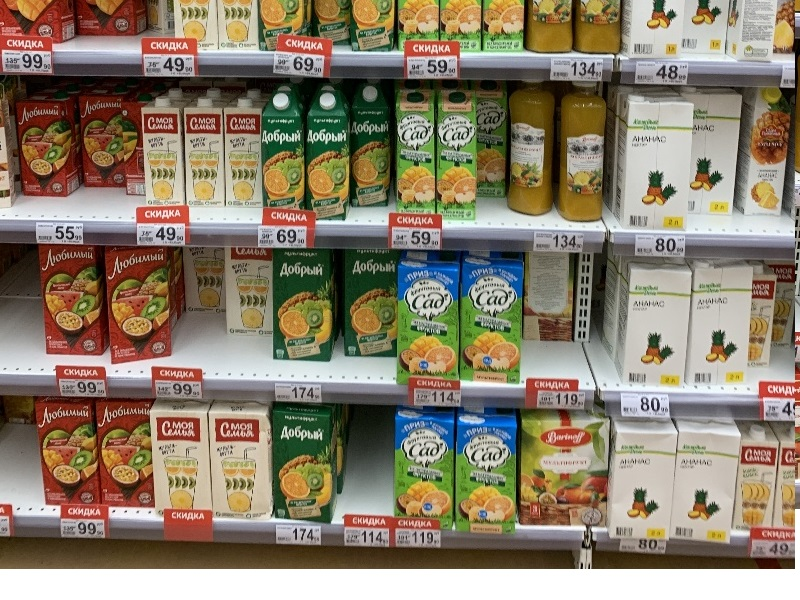juice: (455, 249, 534, 390), (387, 250, 463, 383), (452, 406, 526, 537), (101, 243, 176, 370), (29, 243, 112, 357), (269, 402, 340, 529), (265, 247, 339, 366), (32, 396, 107, 511), (14, 90, 86, 205), (395, 408, 459, 526), (257, 85, 313, 217), (345, 83, 401, 214), (302, 92, 355, 226), (434, 87, 483, 225), (390, 87, 440, 214)
